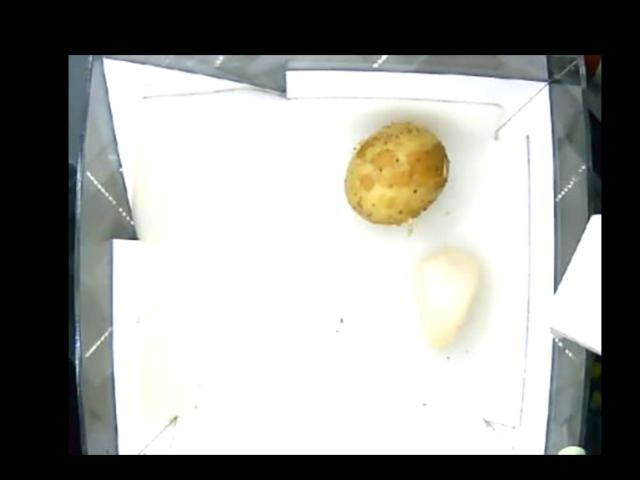Mooli: (411, 250, 480, 349)
Potato: (342, 123, 450, 226)
